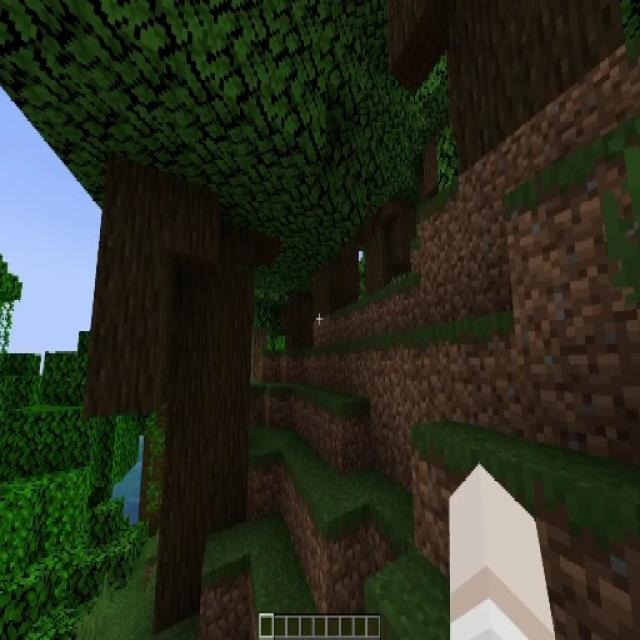dark_oak: (51, 0, 306, 626)
dark_oak_log: (111, 184, 250, 626), (447, 0, 613, 149), (361, 200, 411, 289)
jungle_log: (136, 411, 167, 543)
